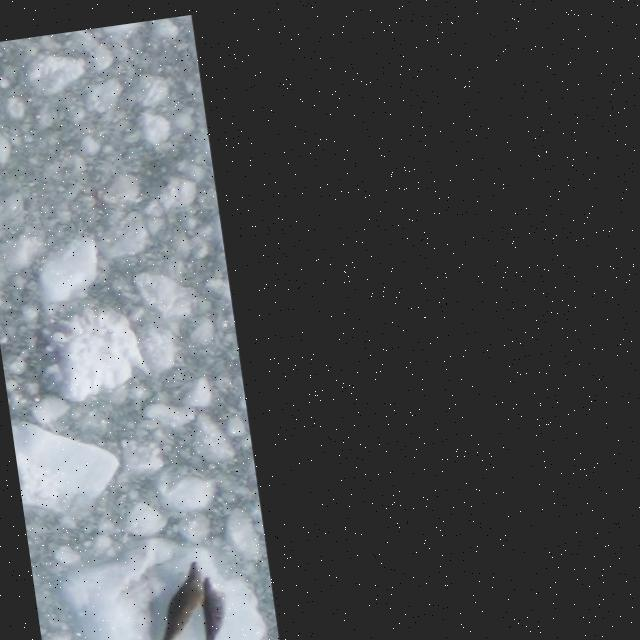seal: (151, 558, 221, 640), (199, 575, 228, 640)
